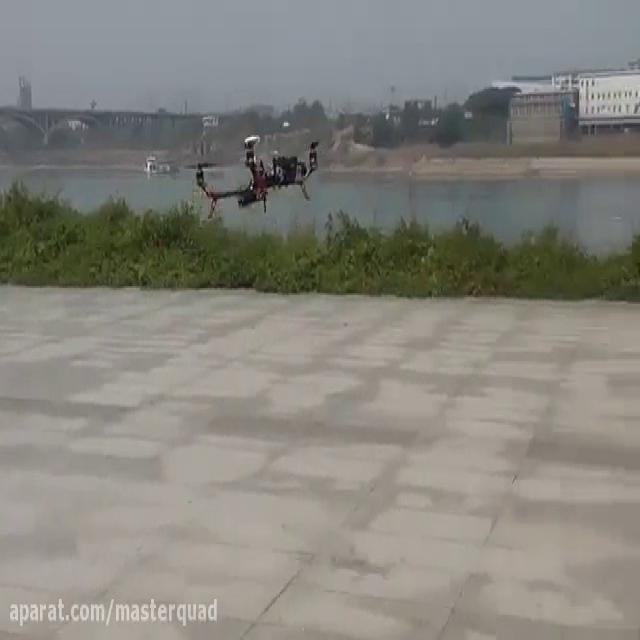drone: (180, 126, 326, 222)
